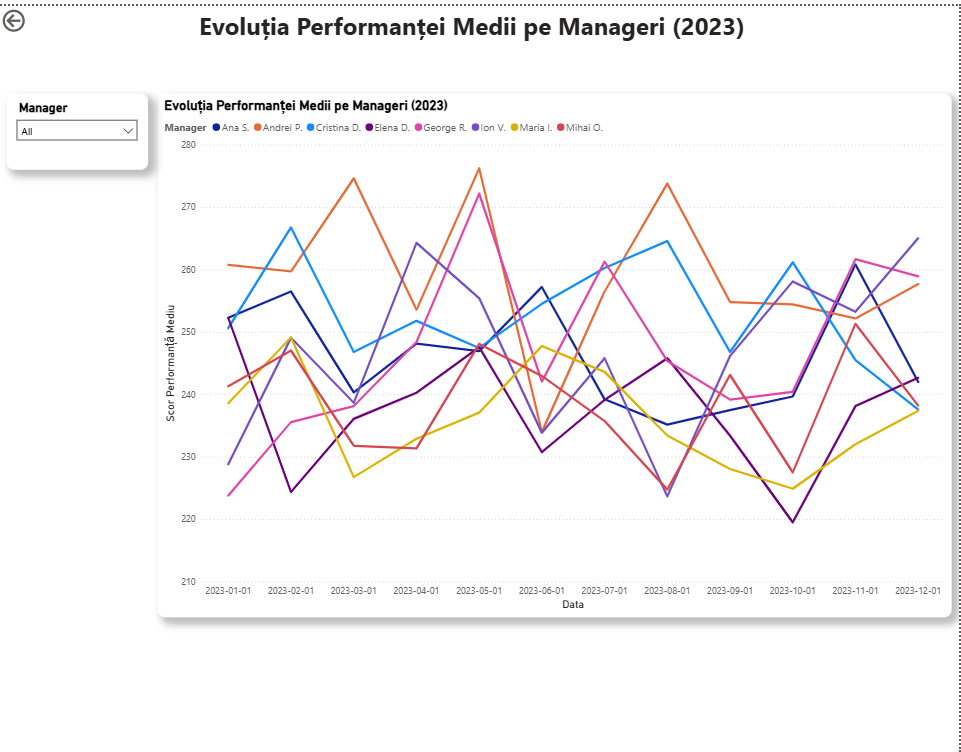

Layout of this report page (visuals, bound fields, positions):
{"tool":"powerbi","page":{"name":"Evolutia Performantei Medii","canvas":[1280,1100],"ordinal":4},"visuals":[{"type":"textbox","box":[35.6,0,1191.4,85.9],"z":0},{"type":"lineChart","title":"Evoluția Performanței Medii pe Manageri (2023)","fields":{"Category":["date_angajati.Data.Variation.Date Hierarchy.Month"],"Series":["date_angajati.Manager"],"Y":["Avg(date_angajati.Scor_Performanta)"]},"box":[211.4,117.1,1058.6,698.6],"z":1000},{"type":"slicer","fields":{"Values":["date_angajati.Manager"]},"box":[10,117.1,188.6,101.4],"z":2000},{"type":"actionButton","box":[0,0,100,39.3],"z":3000}]}

Visuals, with their boxes on the page's 1280x1100 design canvas (x1, y1, x2, y2). These are canvas units, not pixel positions in the 961x752 screenshot, which may show the page scaled, cropped or inside an application window:
textbox: locate(36, 0, 1227, 86)
"Evoluția Performanței Medii pe Manageri (2023)" lineChart: locate(211, 117, 1270, 816)
slicer - date_angajati.Manager: locate(10, 117, 199, 218)
actionButton: locate(0, 0, 100, 39)
